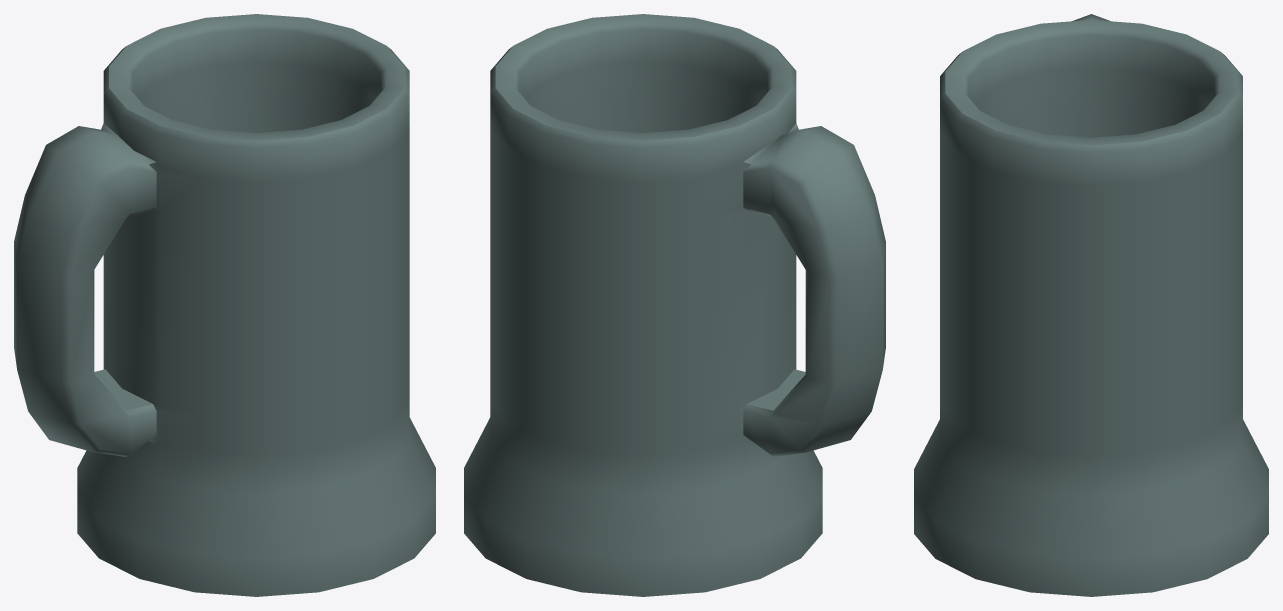
The model's file is Mug_empty.fbx.
3 views of the same model, side by side, from view 1: azimuth 30°, elevation 25°; view 2: azimuth 150°, elevation 25°; view 3: azimuth 270°, elevation 25° (orthographic).
Parts seen in each view (by area): view 1: Cylinder047; view 2: Cylinder047; view 3: Cylinder047.
Part boxes in pixels (box(x1,y1,x2,y2)): Cylinder047: box(14, 14, 435, 596); Cylinder047: box(464, 14, 885, 596); Cylinder047: box(914, 14, 1268, 596).
Bounding box in the file's own units: 70.61 × 75.21 × 55.21.
